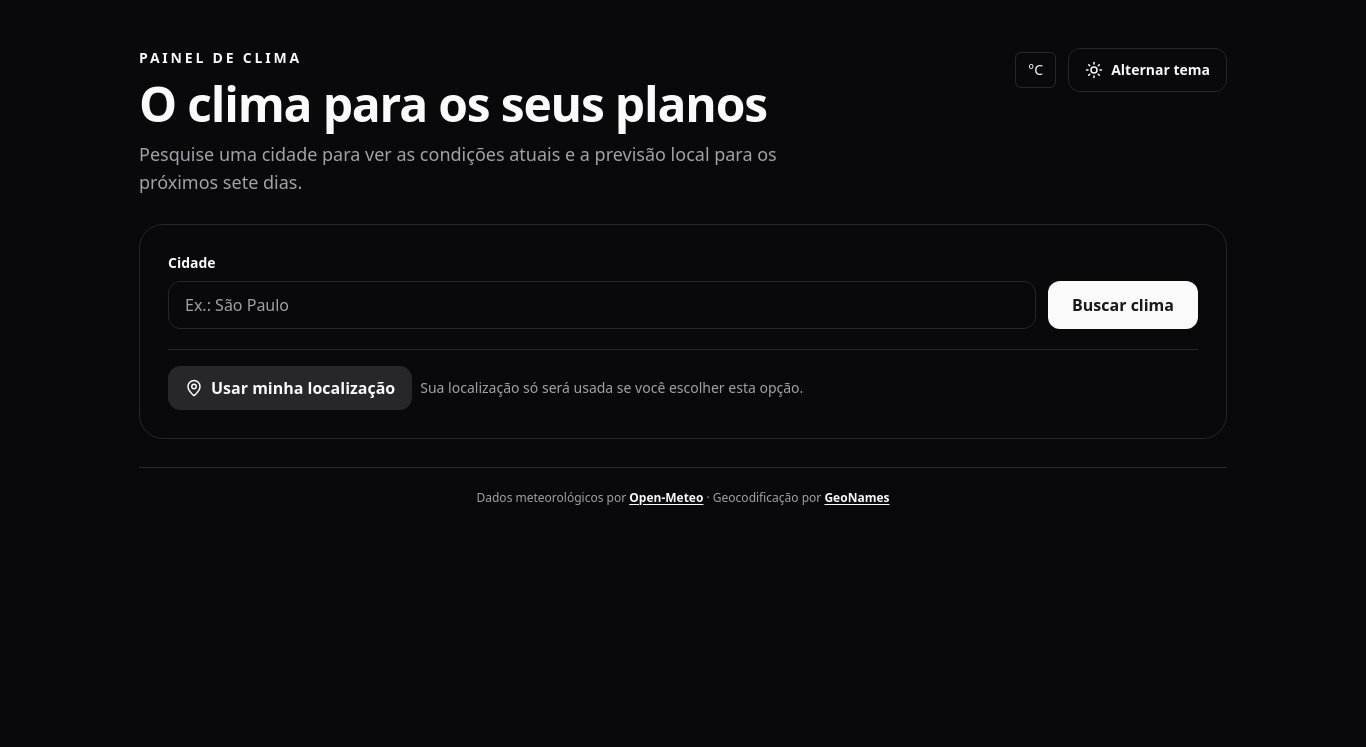
it: WeatherView browser location › uses granted coordinates with the local label and no reverse geocoding
Click the button "Usar minha localização".
click(290, 388)  # box 168,366 -> 412,410
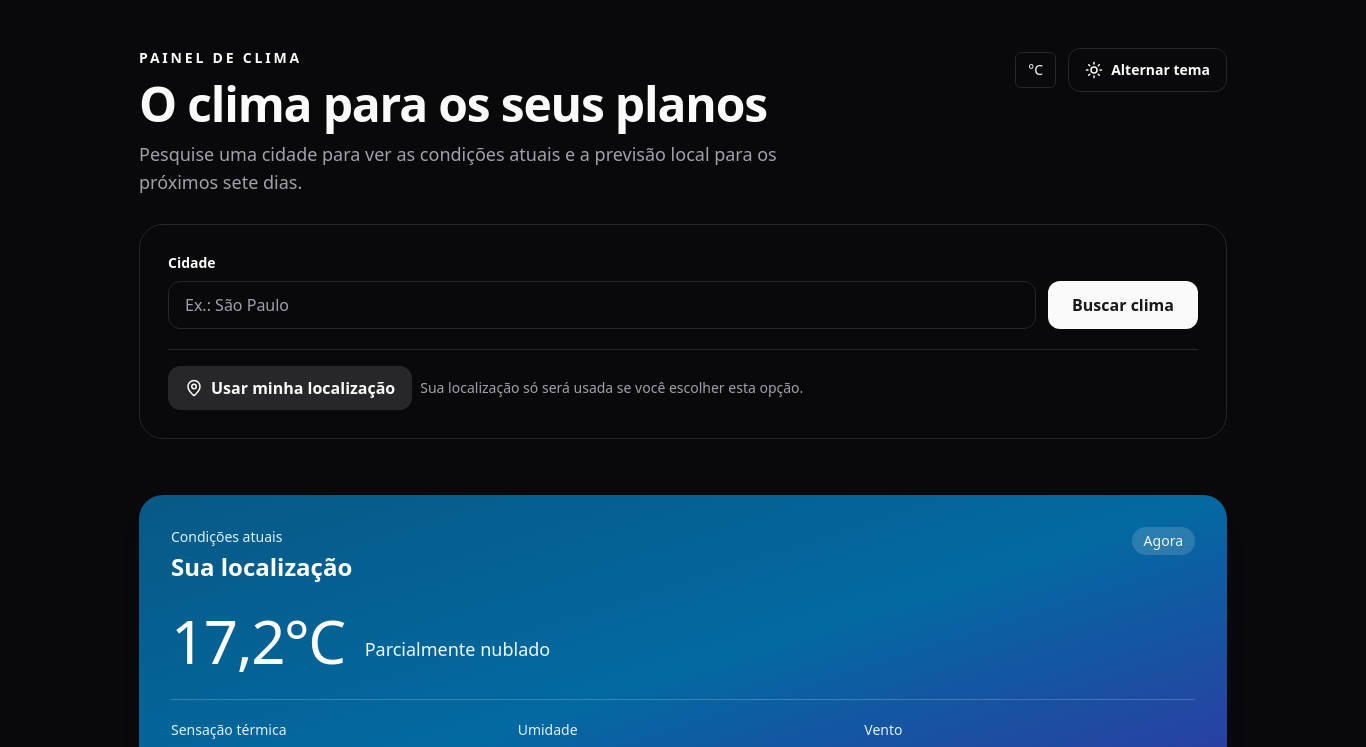
Now the heading "Sua localização" is shown, box 171,551 -> 352,583
